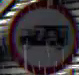Heavy Vehicles: (8, 3, 74, 71)
